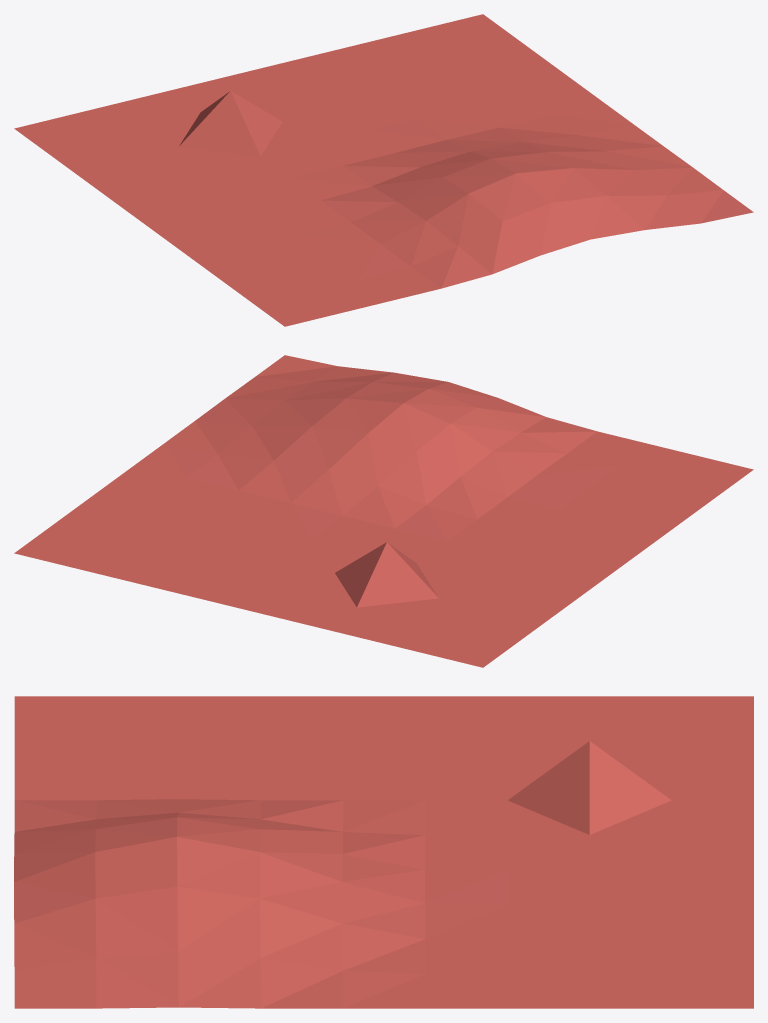
3 renders of one model, top to bottom at view 1: azimuth 30°, elevation 25°; view 2: azimuth 150°, elevation 25°; view 3: azimuth 270°, elevation 25°, orthographic. The views are drawn at different scales.
Parts seen in each view (by area): view 1: Grid; view 2: Grid; view 3: Grid.
Part boxes in pixels (box(x1,y1,x2,y2)): Grid: box(14, 14, 753, 326); Grid: box(14, 355, 753, 667); Grid: box(14, 696, 753, 1008).
Size of the model in its own units: 16 by 16.01 by 1.42.
